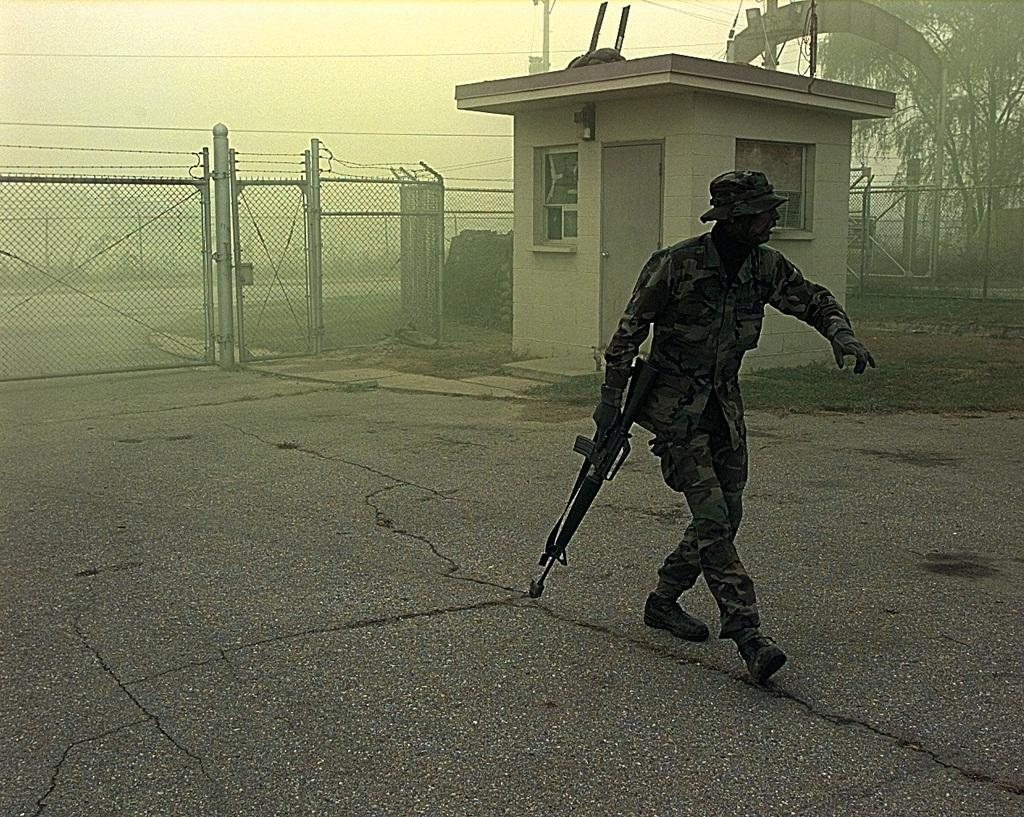Rifle: (543, 343, 682, 599)
